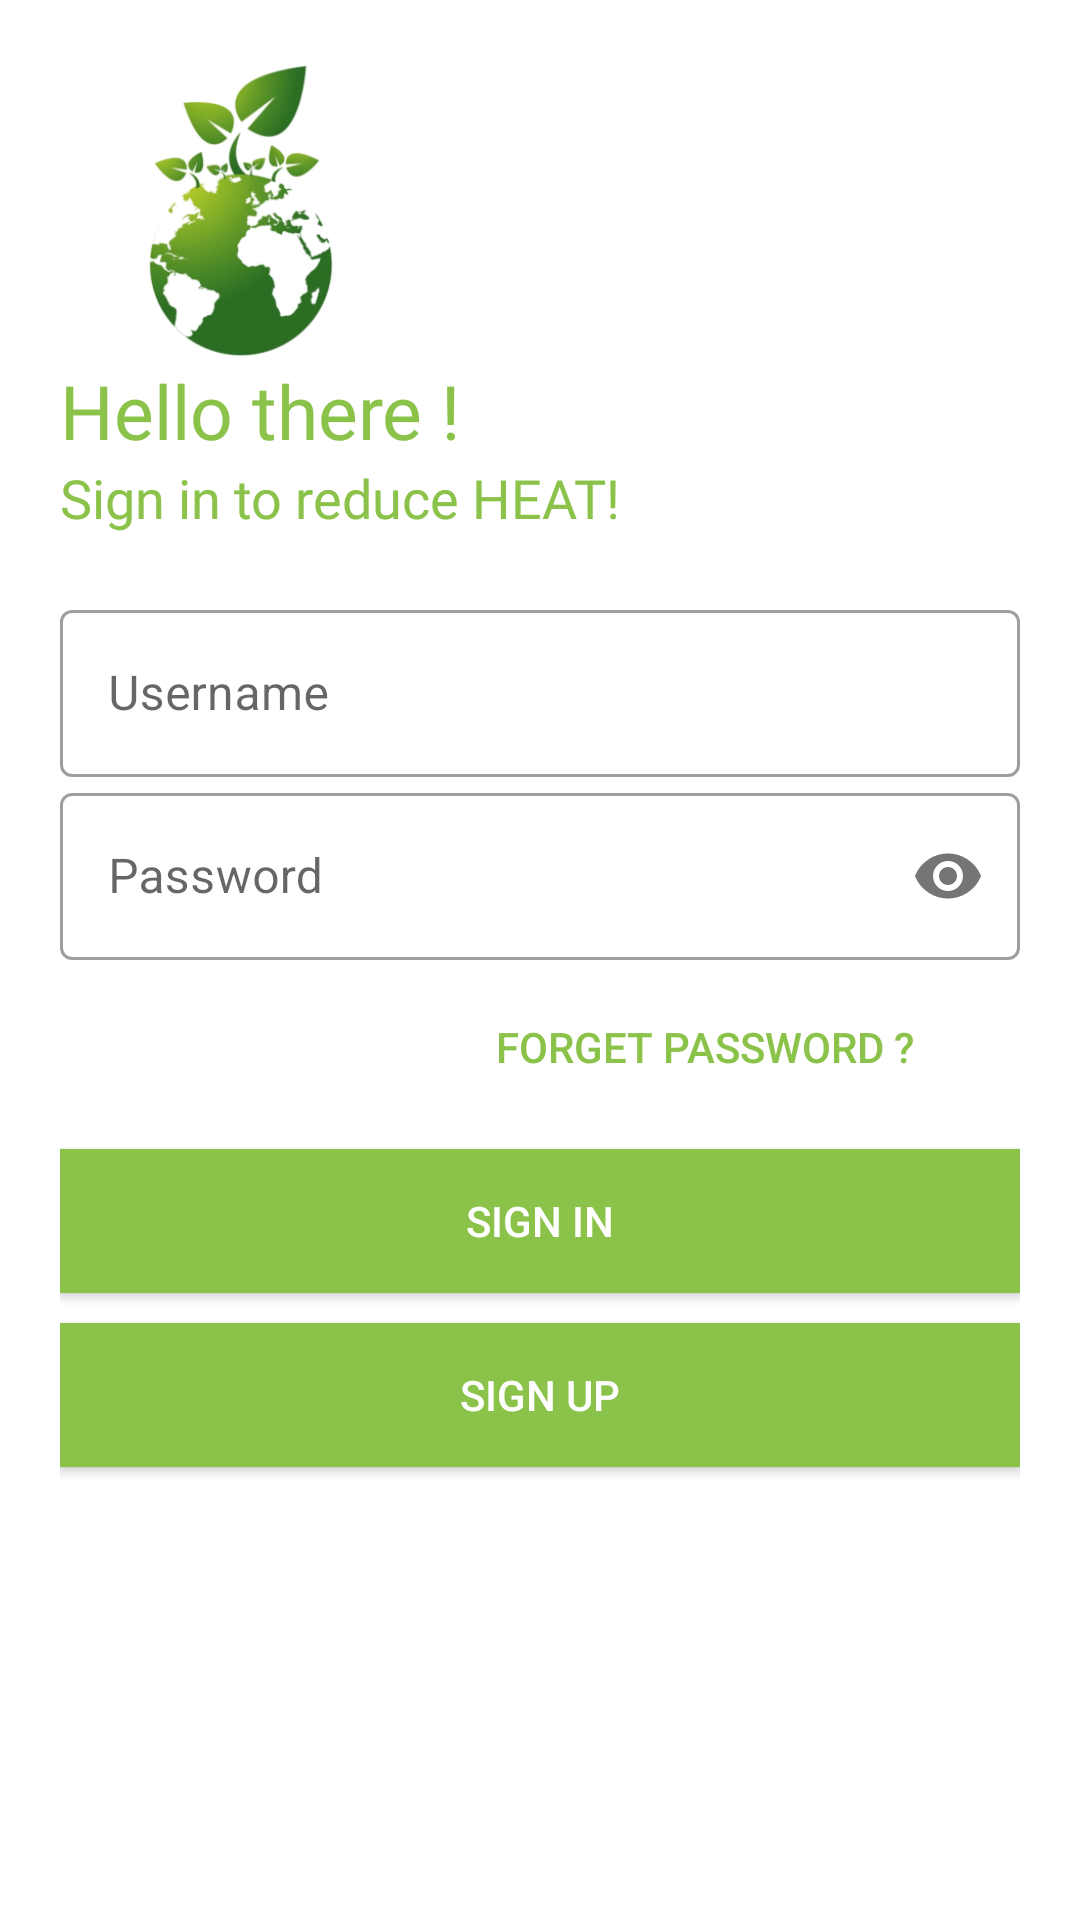

Icons on this 1080×1920 Android screen, each with the point to tap as (x,y):
earthminimized: (241,210)
